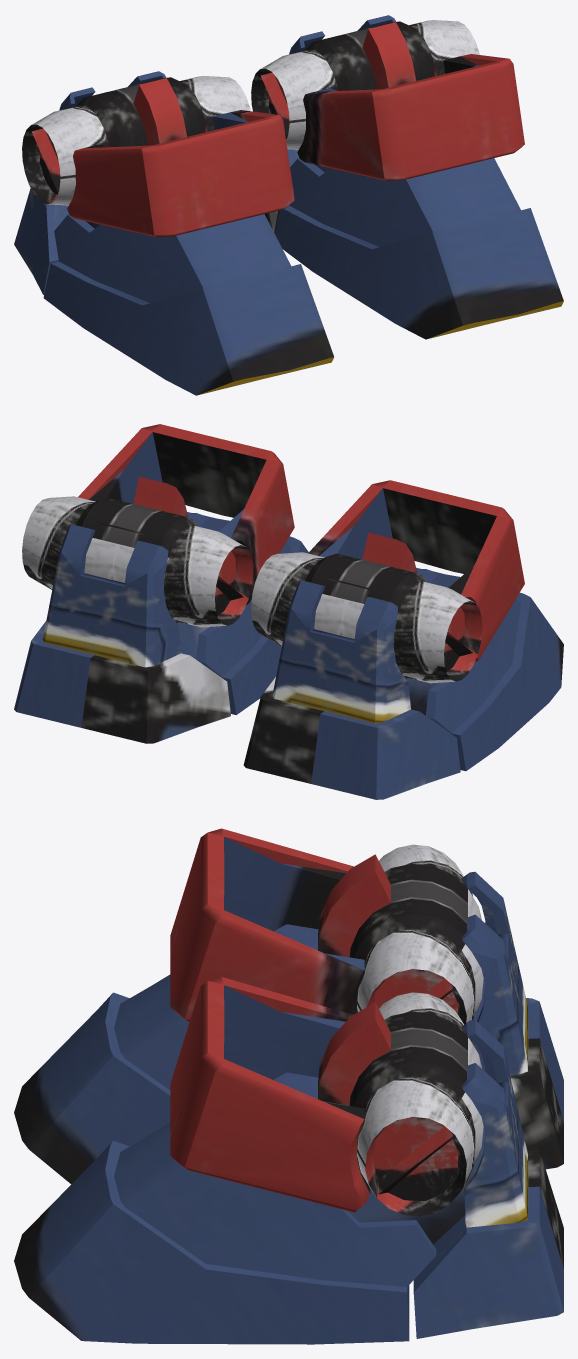
Rendered from left_feet.obj.
The picture shows the model from 3 angles, top to bottom: view 1: azimuth 30°, elevation 25°; view 2: azimuth 150°, elevation 25°; view 3: azimuth 270°, elevation 25°; orthographic projection. The views are drawn at different scales.
Parts seen in each view (by area): view 1: polySurface666; view 2: polySurface666; view 3: polySurface666.
Boxes of the visible parts, x1=… form: polySurface666: x1=14, y1=15, x2=563, y2=395; polySurface666: x1=14, y1=424, x2=563, y2=799; polySurface666: x1=14, y1=828, x2=563, y2=1344.
Size of the model in its own units: 7.19 by 3.52 by 6.13.
